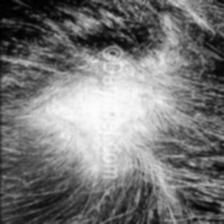Unclassified: (38, 70, 104, 160), (119, 48, 182, 126)
